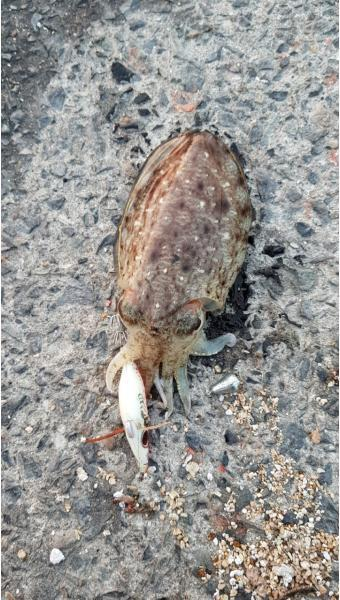Cephalopod: (106, 131, 255, 402)
